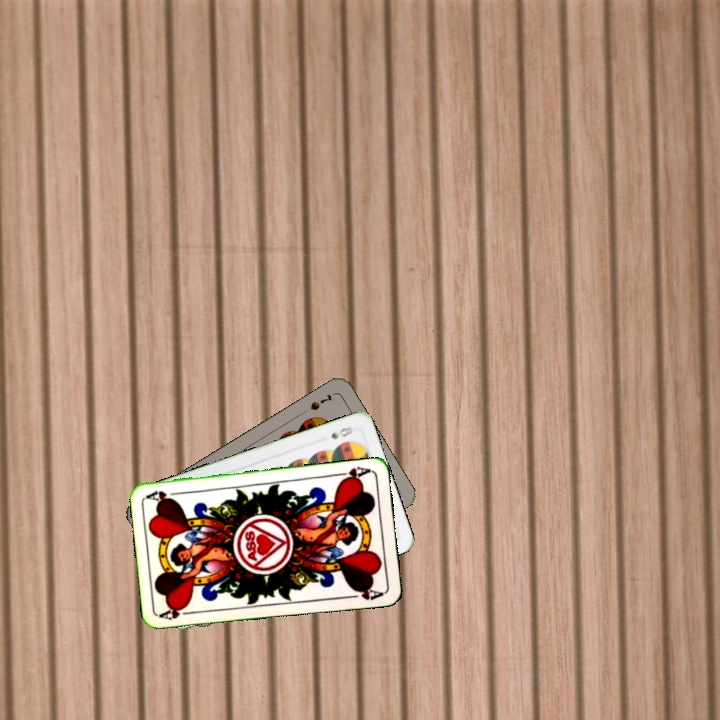HA: (332, 463, 372, 484), (157, 602, 197, 623)
S7: (306, 390, 336, 413)
S8: (326, 422, 357, 442)
